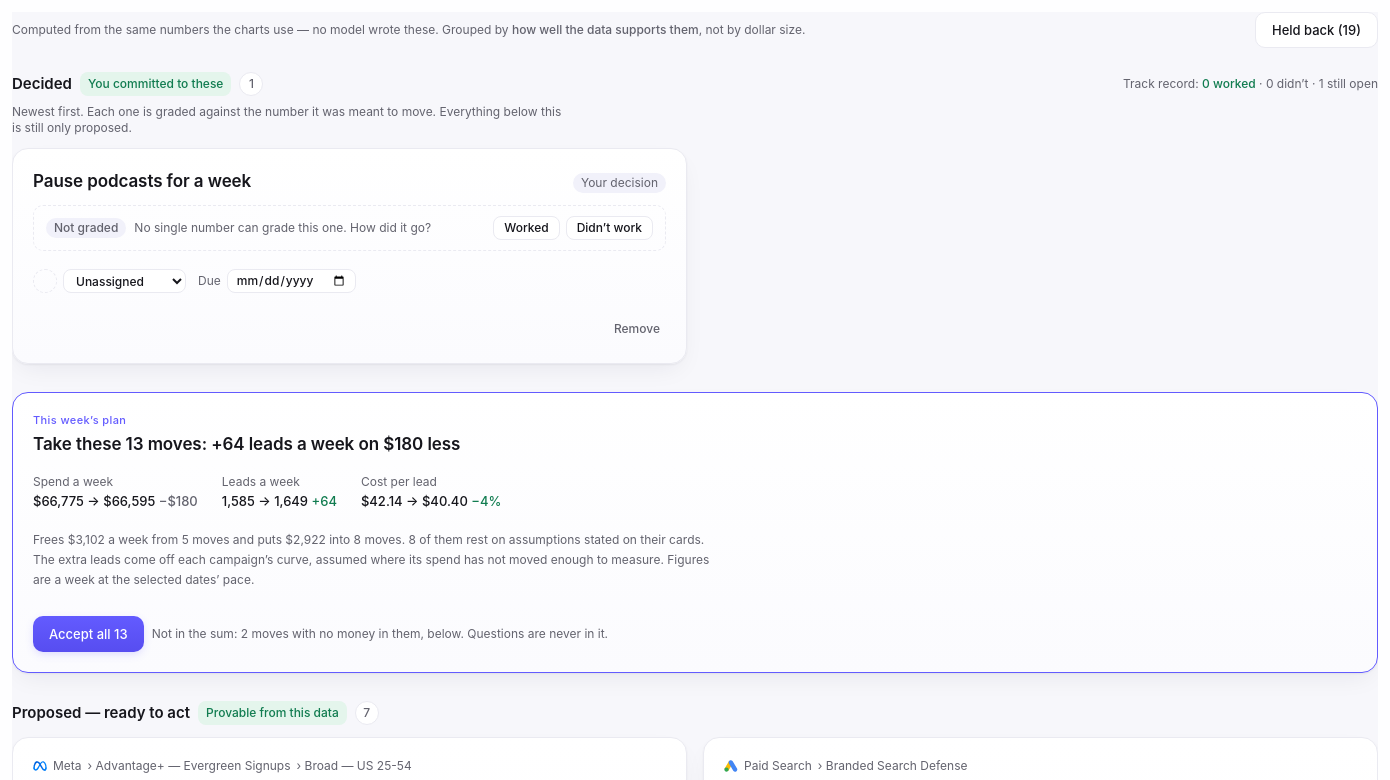
Test: grading on the Decided queue › a written decision is graded by hand
Click the button "Worked" at [526, 228], box x1=493 y1=216 x2=560 y2=240
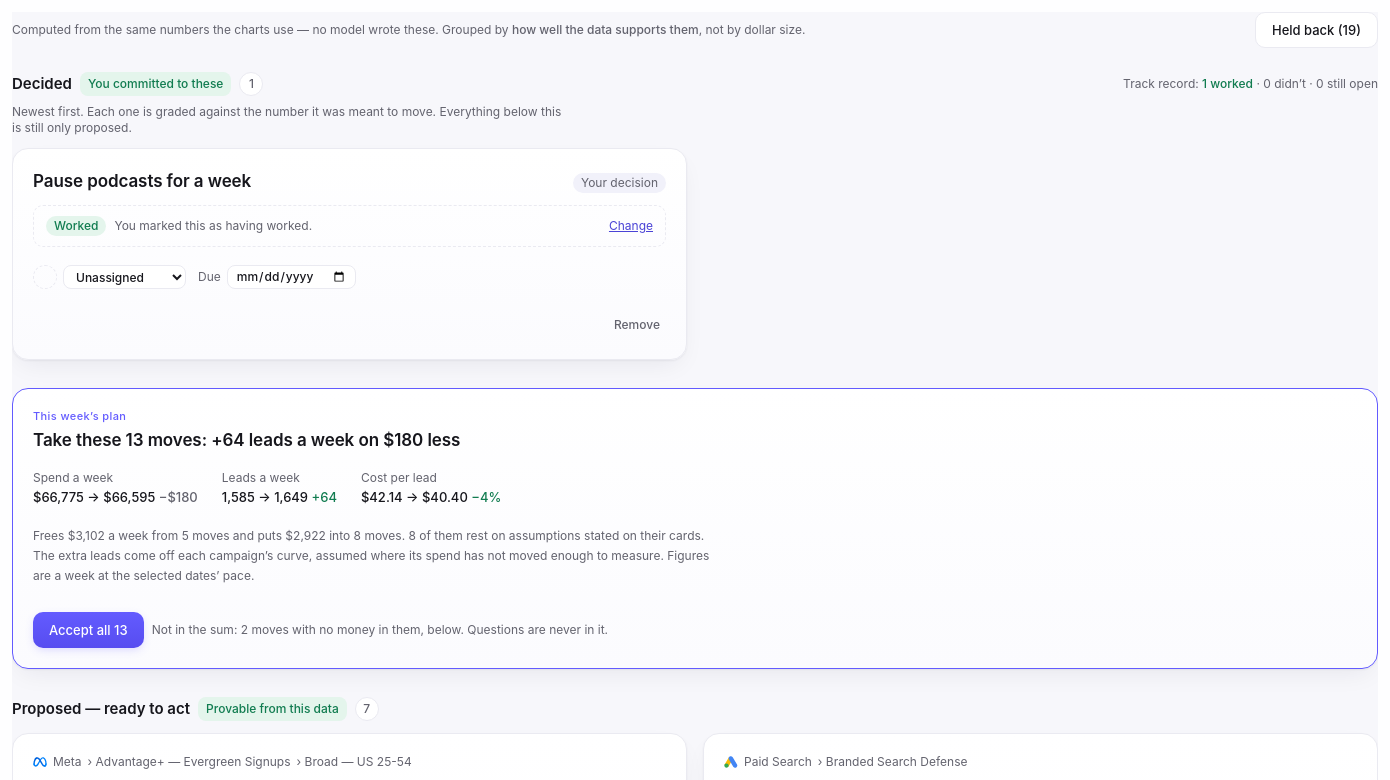
Now the element with class "is-queue" shows "Track record: 1 worked", box x1=12 y1=72 x2=1378 y2=360
